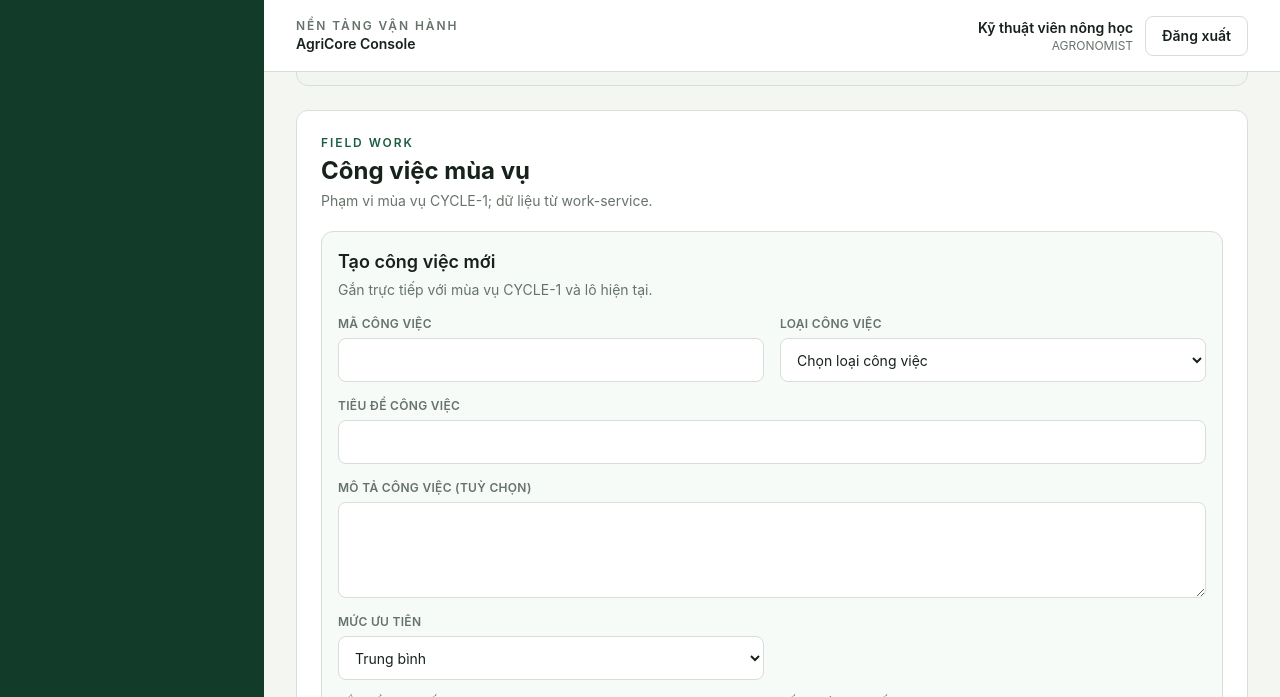
Test case: work-task creation workspace › hides cached tasks after create loses access and can revalidate permissions
(page scrolled)
Step 1. Type "TASK-FORBIDDEN" into the field labelled "Mã công việc" → (551, 360), box [338,338,764,382]
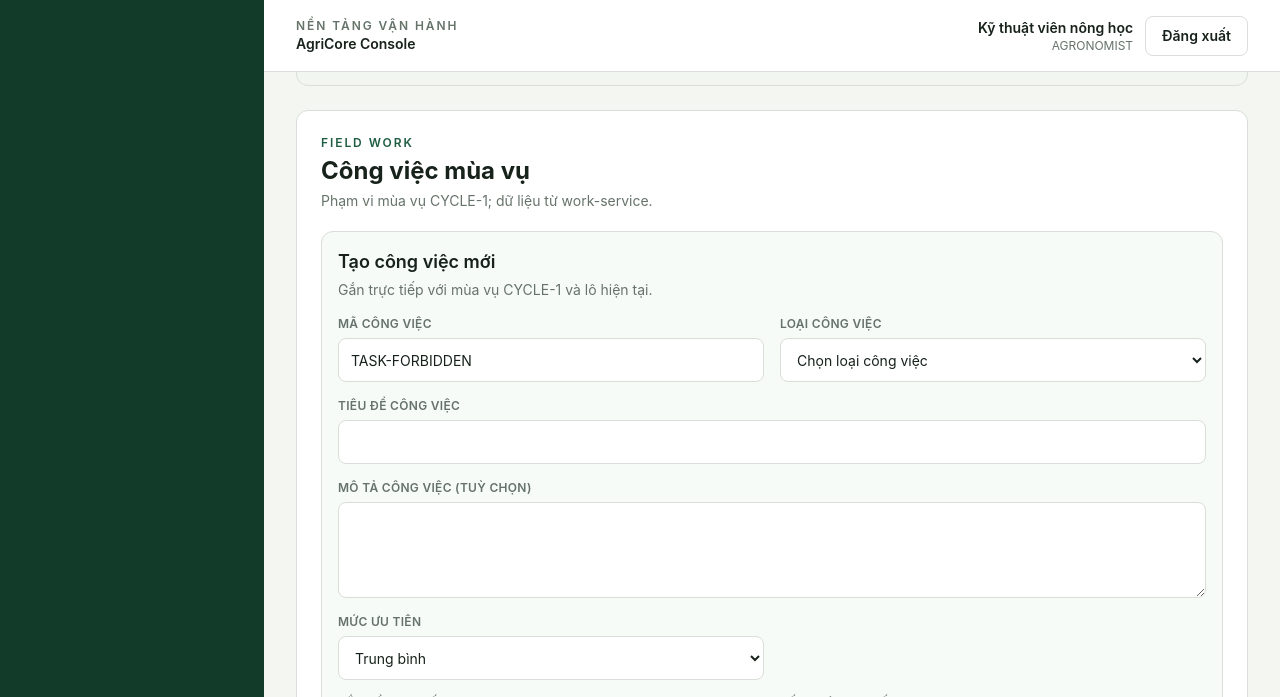
Step 2. Select "Gieo trồng" in the dropdown labelled "Loại công việc" → (993, 360), box [780,338,1206,382]
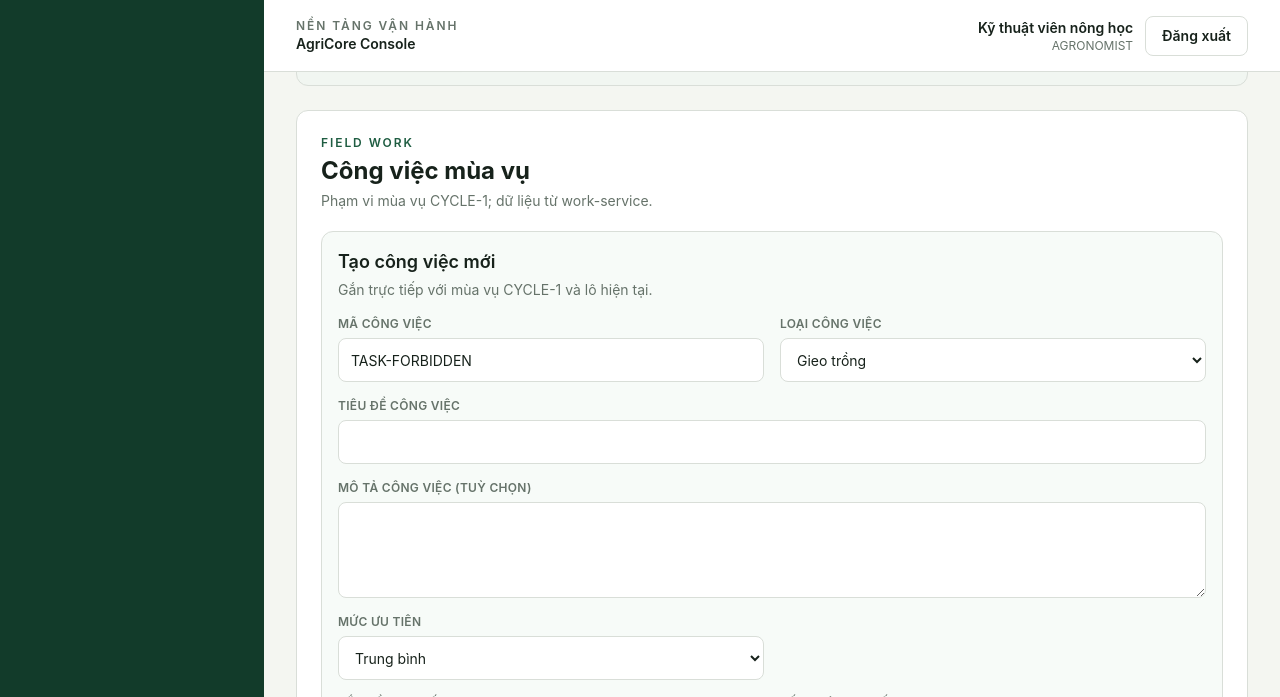
Step 3. Type "Gieo khu A" into the field labelled "Tiêu đề công việc" → (772, 442), box [338,420,1206,464]
(page scrolled)
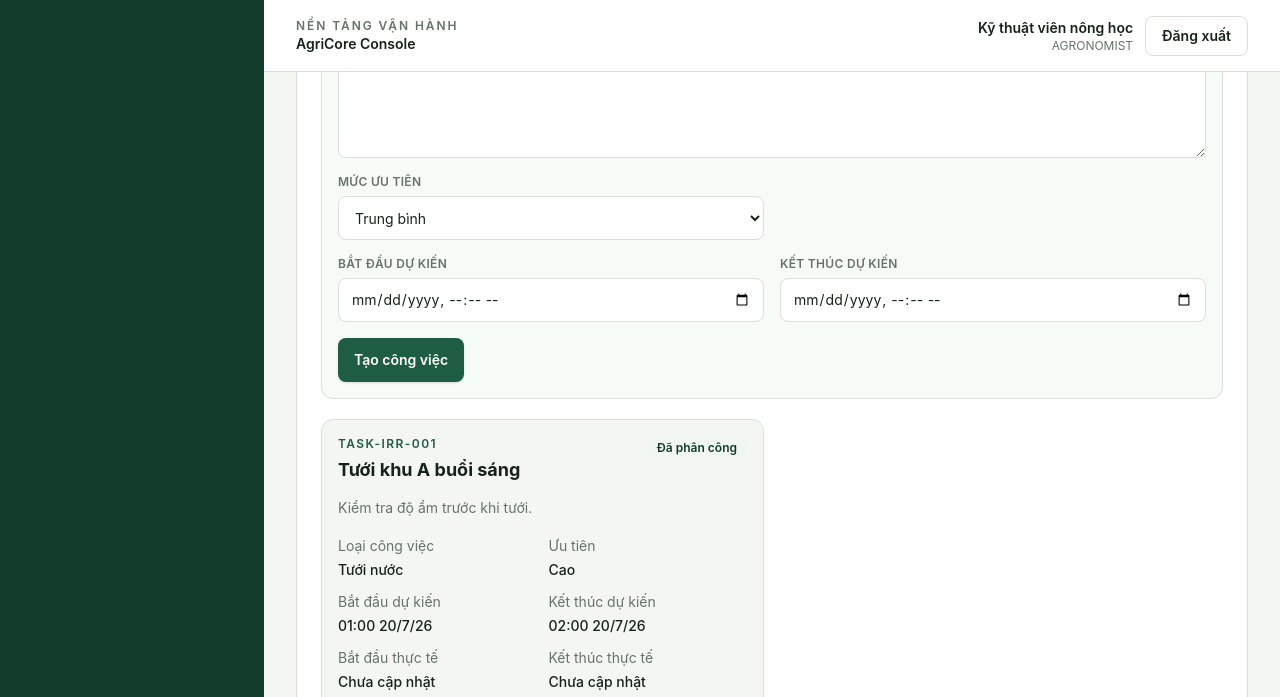
Step 4. Click the button "Tạo công việc" → (401, 360), box [338,338,464,382]
(page scrolled)
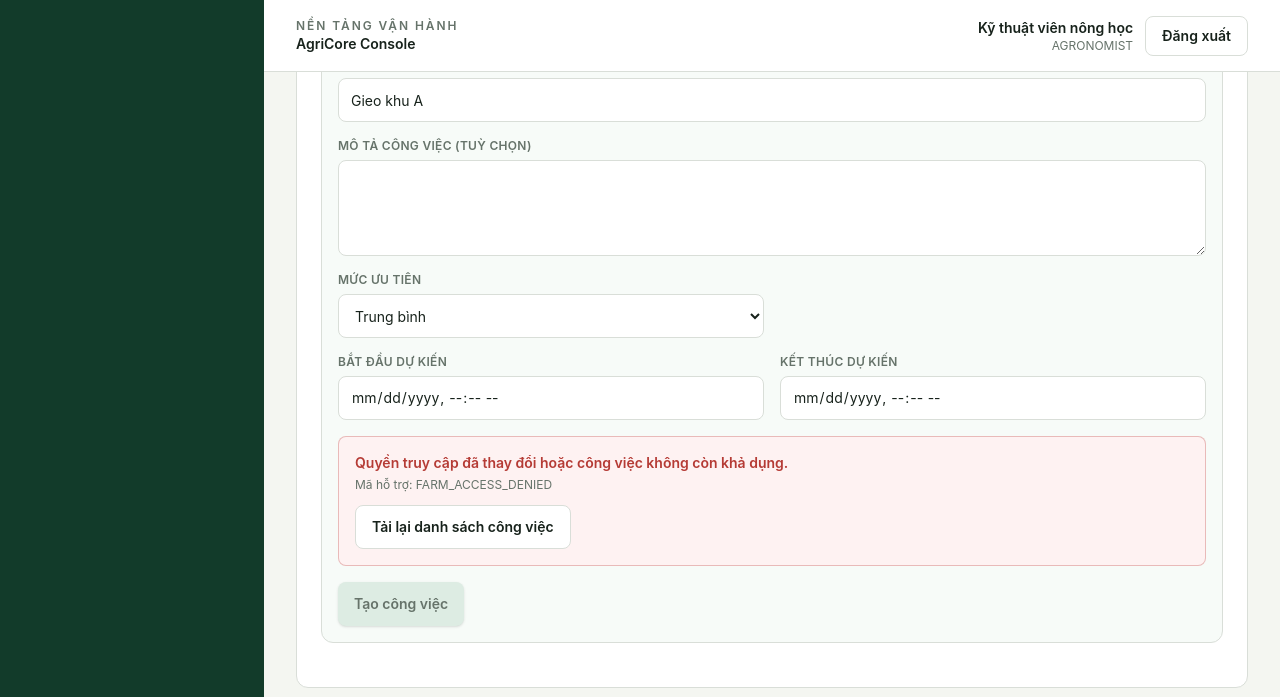
Result: the message named "Không thể tạo công việc" is shown at [338,436,1206,566]
Result: the heading "Tưới khu A buổi sáng" is gone
Result: the button "Tải lại danh sách công việc" is enabled
Step 5. Click the button "Tải lại danh sách công việc" → (463, 527), box [355,505,571,549]
(page scrolled)
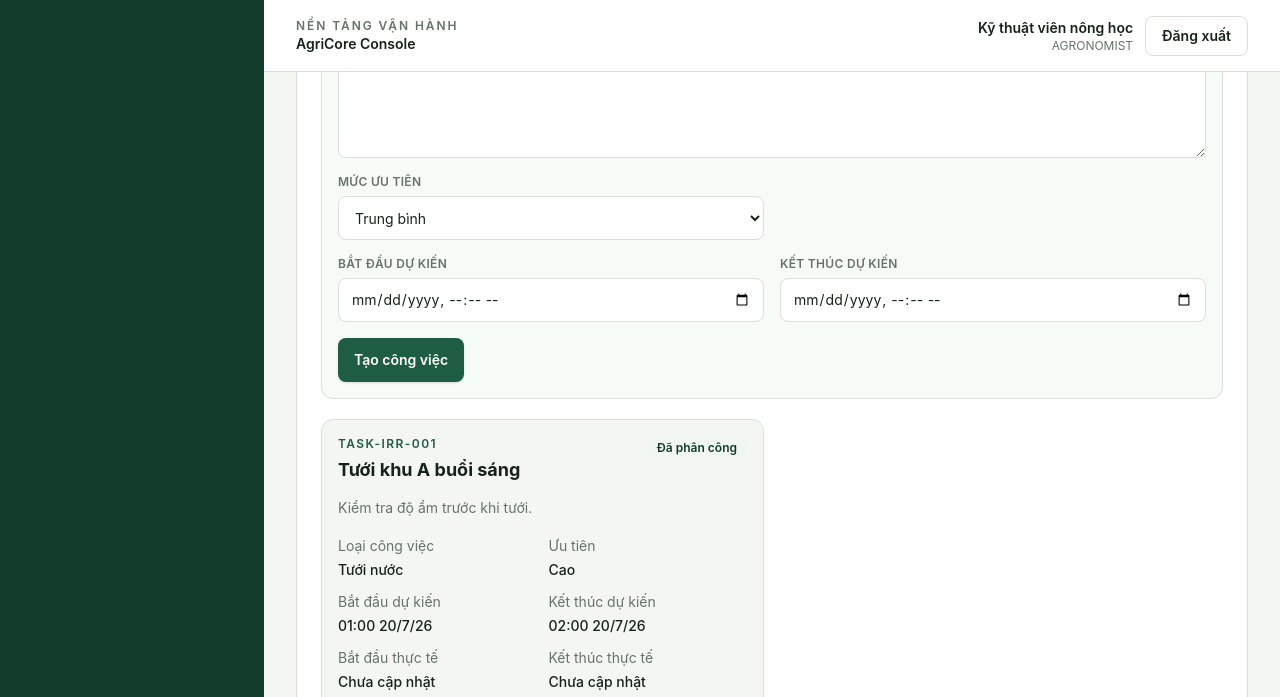
Result: the heading "Tưới khu A buổi sáng" is shown at [338,456,520,484]
